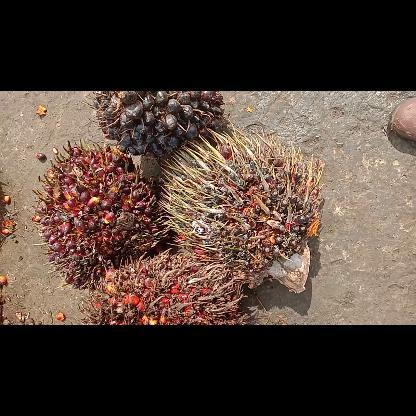TBS abnormal: (162, 126, 326, 294)
TBS masak: (34, 142, 164, 286)
TBS mentah: (88, 90, 226, 156)
Terlalu masak: (86, 252, 252, 324)
